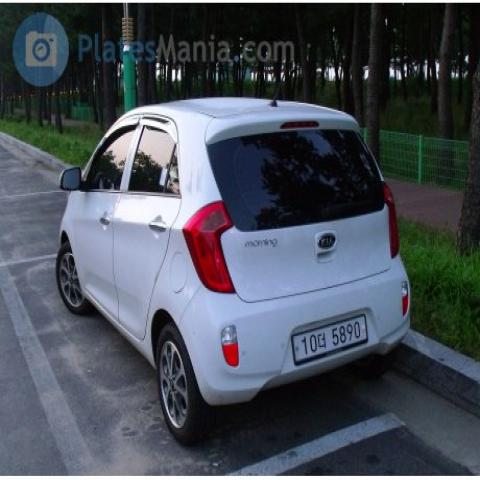LP: (288, 304, 376, 374)
